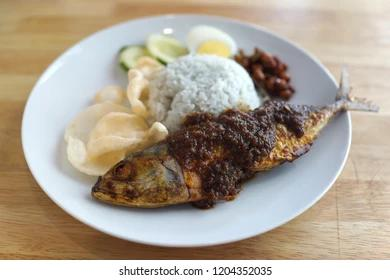buah_sayur_lainnya: (147, 36, 177, 58)
daging: (171, 131, 261, 172)
kacang_legume: (256, 52, 282, 88)
makanan_berpati: (171, 64, 238, 104), (85, 108, 138, 146)
telur: (192, 26, 223, 56)
